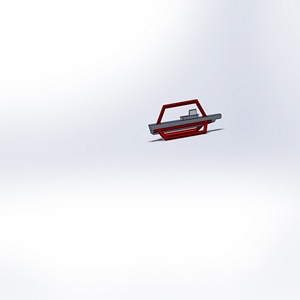submarine: (132, 96, 232, 152)
